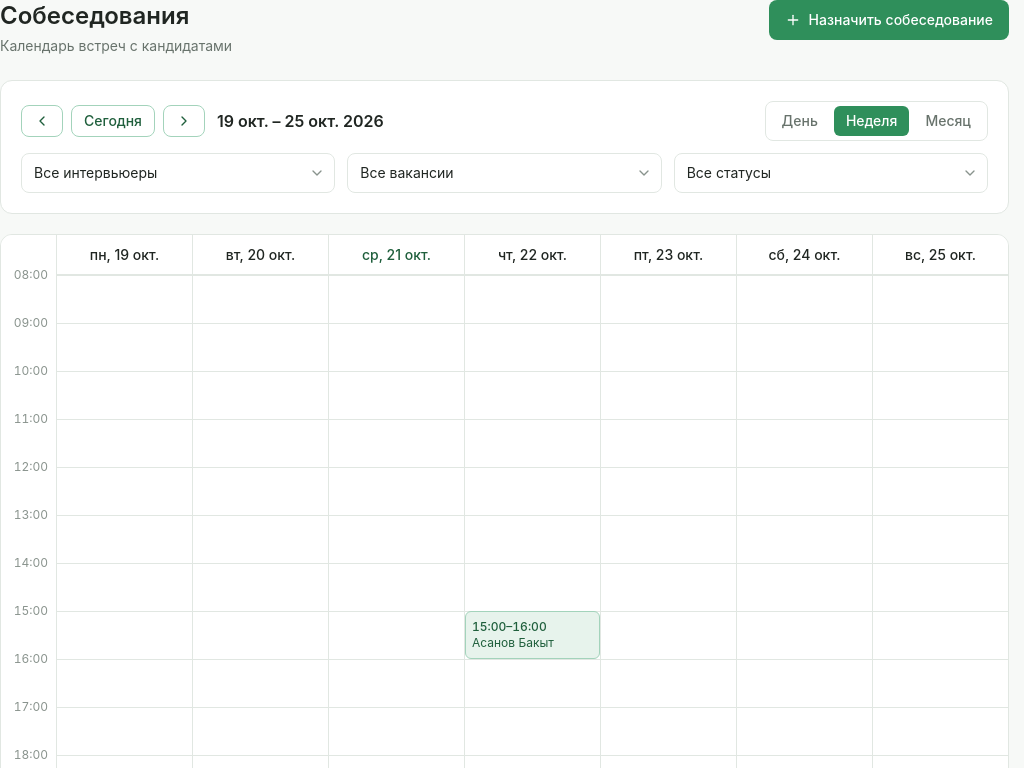
Test: календарь собеседований › неделя: запрашивает период и показывает встречу со ссылкой на отклик
Click the button "15:00–16:00 Асанов Бакыт": coordinates (532, 635) [465, 611, 600, 659]
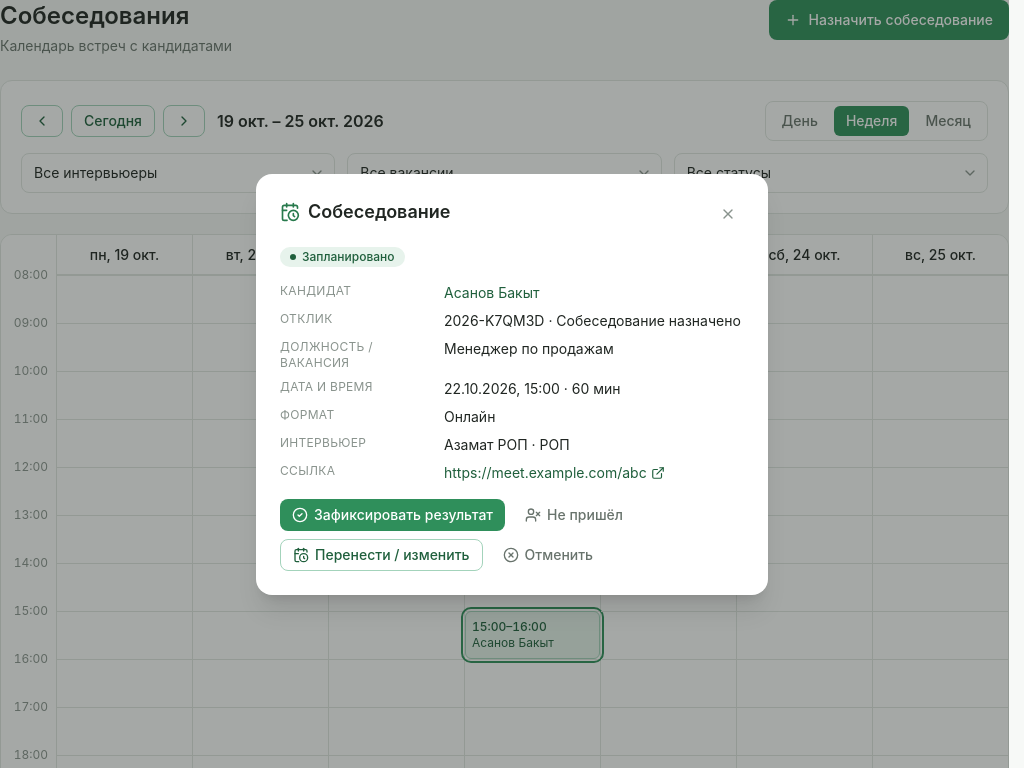
Expected: the text "Азамат РОП · РОП" is shown, [444, 436, 570, 452]
